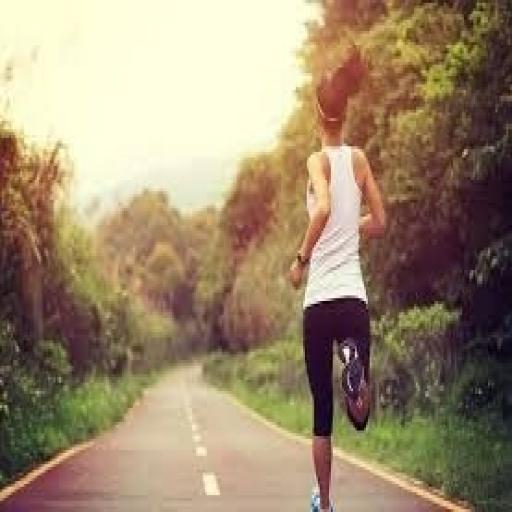running: (287, 45, 390, 509)
